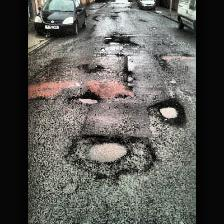pothole: (64, 134, 156, 176), (152, 98, 186, 126), (76, 93, 100, 104), (104, 35, 128, 45)
